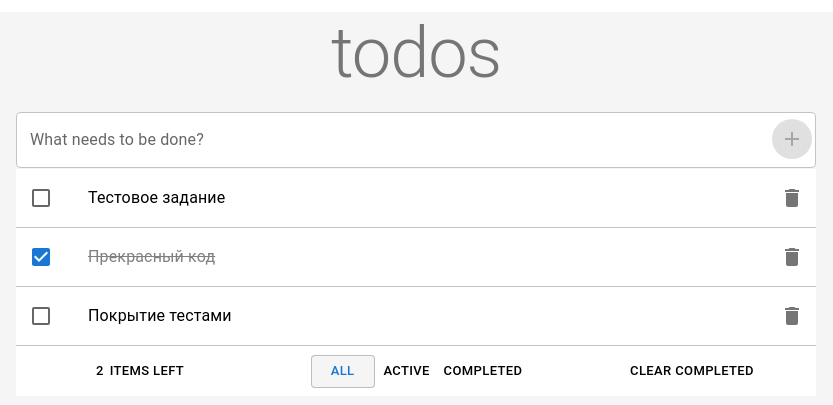
Test: TodoList › should delete a task
Check: the text "Тестовое задание" is shown, box [88,188,225,207]
Click the 1st button named "delete" at (792, 198), box [772,178,812,218]
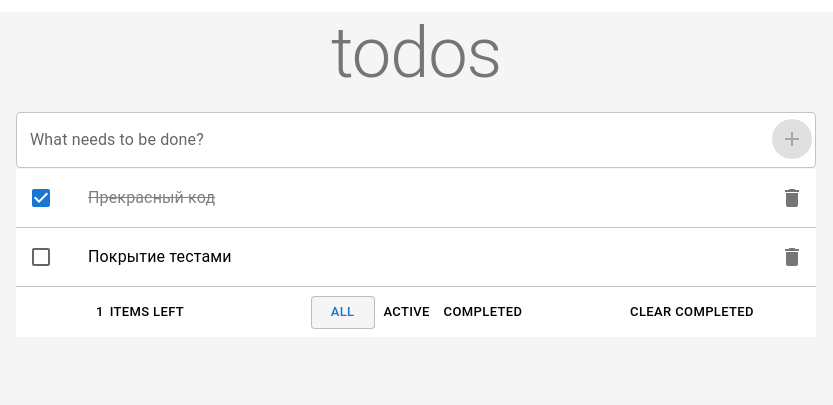
Check: the button "Тестовое задание" is gone
